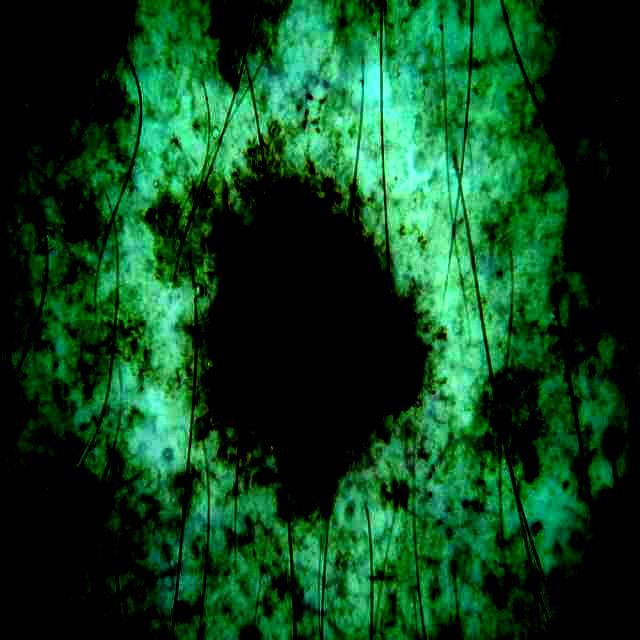NV: (205, 164, 415, 508)
